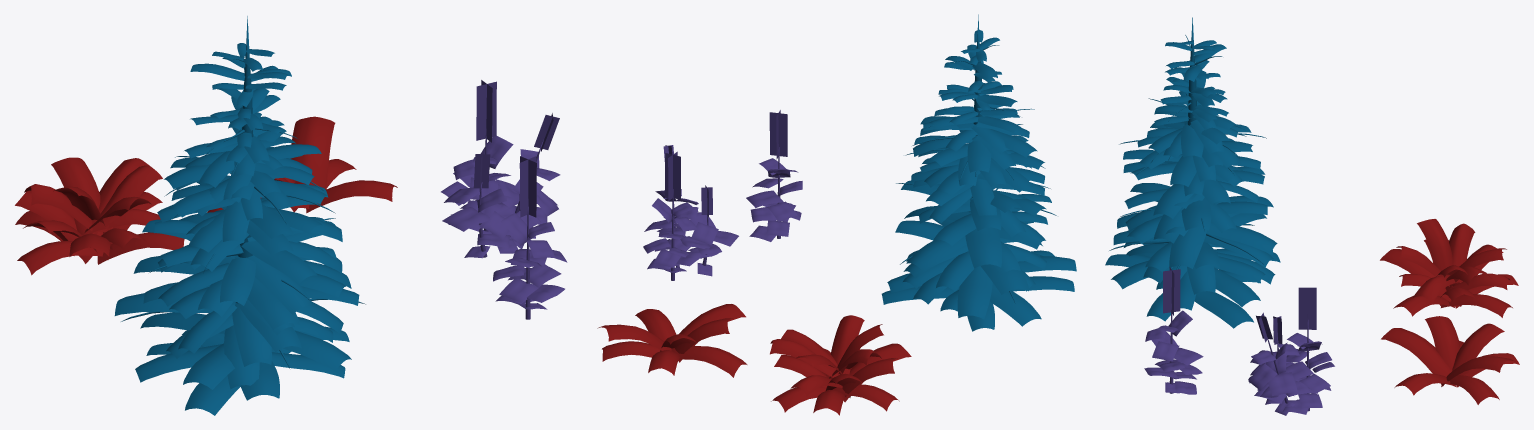
Rendered from SequoiaTrees2.fbx.
The picture shows the model from 3 angles, left to right: view 1: azimuth 30°, elevation 25°; view 2: azimuth 150°, elevation 25°; view 3: azimuth 270°, elevation 25°; orthographic projection. The views are drawn at different scales.
Visible parts, largest first — view 1: Plane168, Plane025, Cylinder007; view 2: Plane168, Plane025, Cylinder007; view 3: Plane168, Plane025, Cylinder007.
Boxes of the visible parts, x1,y1,x2,y2 form: Plane168: (114,16,365,415); Plane025: (15,116,397,275); Cylinder007: (441,80,567,319); Plane168: (881,14,1076,331); Plane025: (597,304,911,415); Cylinder007: (643,110,802,280); Plane168: (1105,17,1280,328); Plane025: (1380,219,1519,404); Cylinder007: (1144,267,1334,415).
Size of the model in its own units: 102 by 78.26 by 103.
